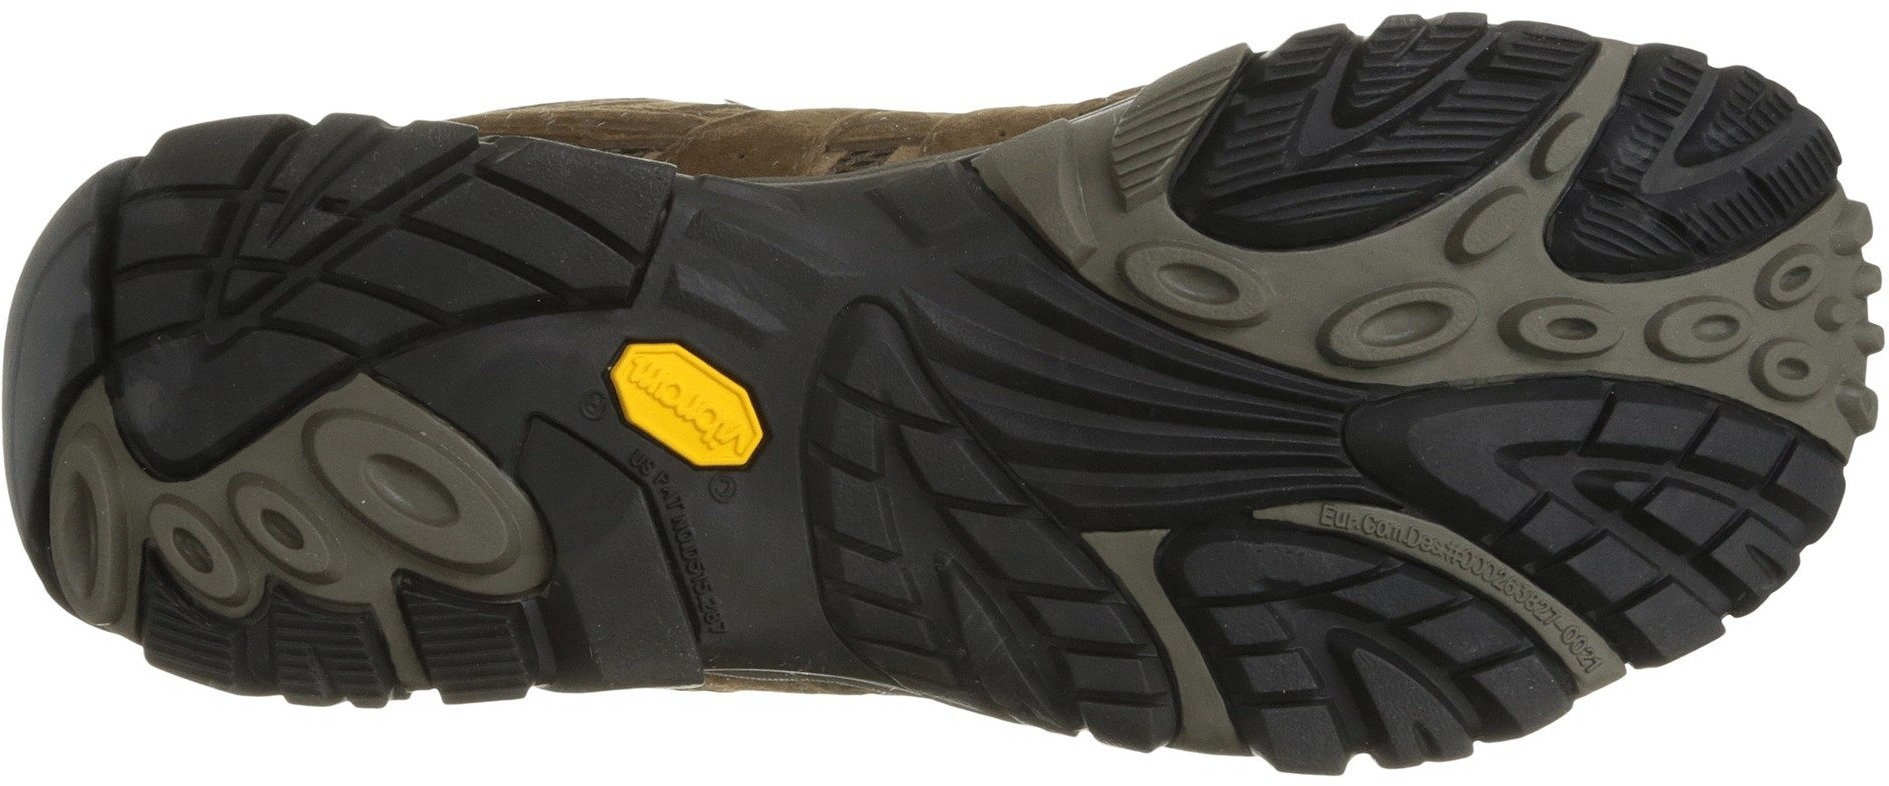chevron: (1214, 39, 1563, 294), (788, 309, 1097, 574)
circle: (230, 358, 531, 626), (42, 429, 245, 626), (1091, 153, 1289, 328), (626, 523, 775, 670)
exclude: (314, 1, 1148, 196)
line: (1214, 39, 1563, 294), (230, 358, 531, 626), (1034, 329, 1259, 536), (42, 429, 245, 626), (1091, 153, 1289, 328), (626, 523, 775, 670)
quad: (788, 309, 1097, 574)
text: (626, 523, 775, 670)
triangle: (788, 309, 1097, 574)
